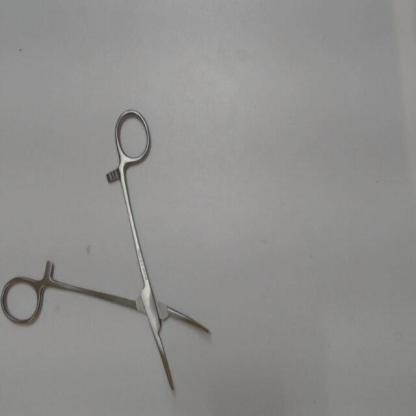Crile Artery Forceps: (1, 106, 222, 398)
